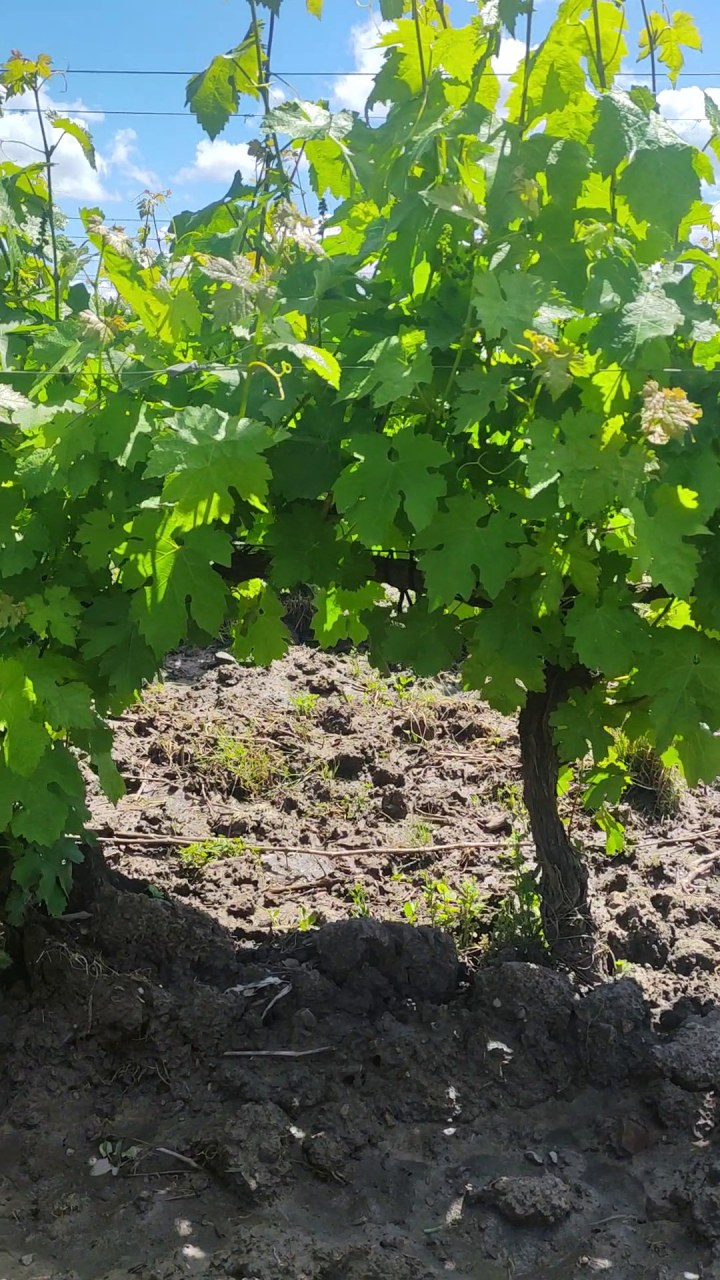vine_trunk: (520, 691, 597, 988)
